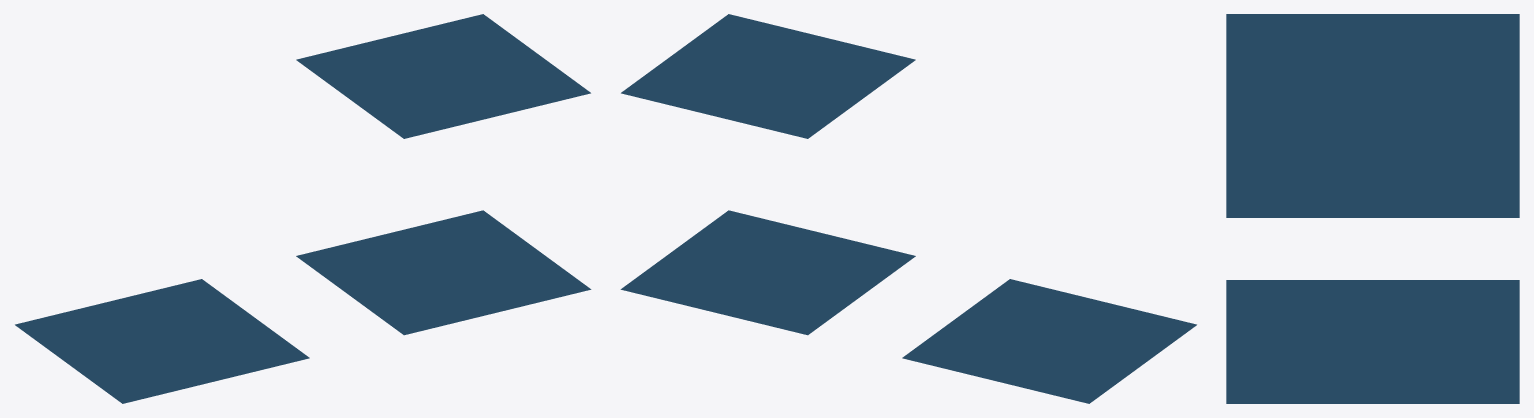
3 renders of one model, left to right at view 1: azimuth 30°, elevation 25°; view 2: azimuth 150°, elevation 25°; view 3: azimuth 270°, elevation 25°, orthographic. The views are drawn at different scales.
Parts seen in each view (by area): view 1: AnalyticUVPreservation; view 2: AnalyticUVPreservation; view 3: AnalyticUVPreservation.
Part boxes in pixels (x1,y1,x2,y2): AnalyticUVPreservation: (15, 14, 591, 403); AnalyticUVPreservation: (620, 14, 1196, 403); AnalyticUVPreservation: (1226, 14, 1519, 403).
Size of the model in its own units: 0.05 by 0.02 by 0.02.
Materials: 3 (3 with a texture image).
